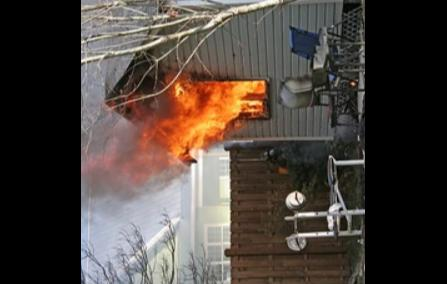fire: (132, 50, 278, 165)
smoke: (82, 112, 198, 204)
